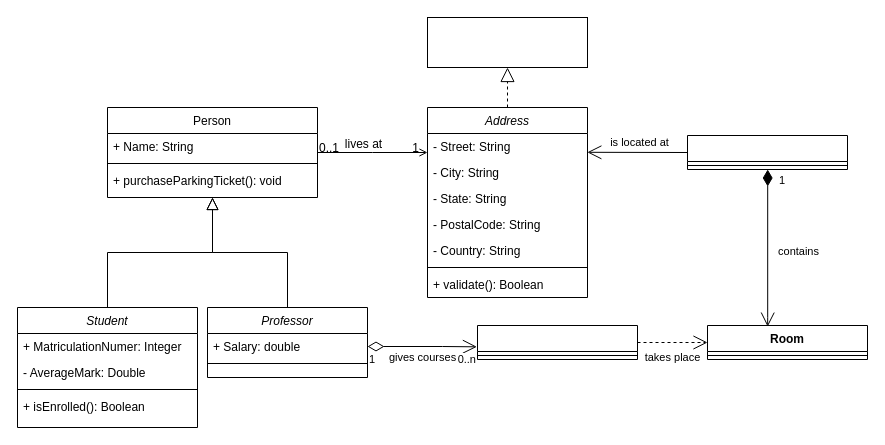
The diagram is 885 pixels wide and 445 high, and some of its shapes have lost their labels. Here are the shapes that lost their labels. From the top down, the centre of each, then its label:
At (x=507, y=42): "«interface» ValidatableAttribute".
At (x=767, y=152): "Building".
At (x=557, y=342): "Course".
